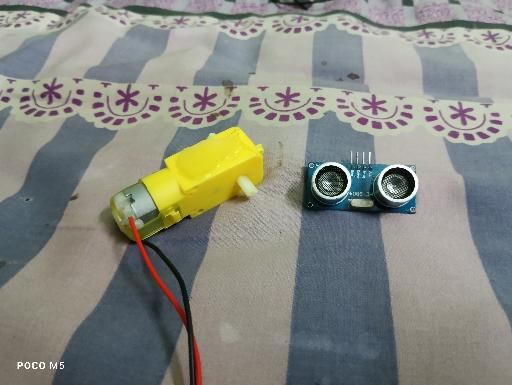Motor: (108, 125, 265, 243)
sensor: (305, 152, 419, 215)
